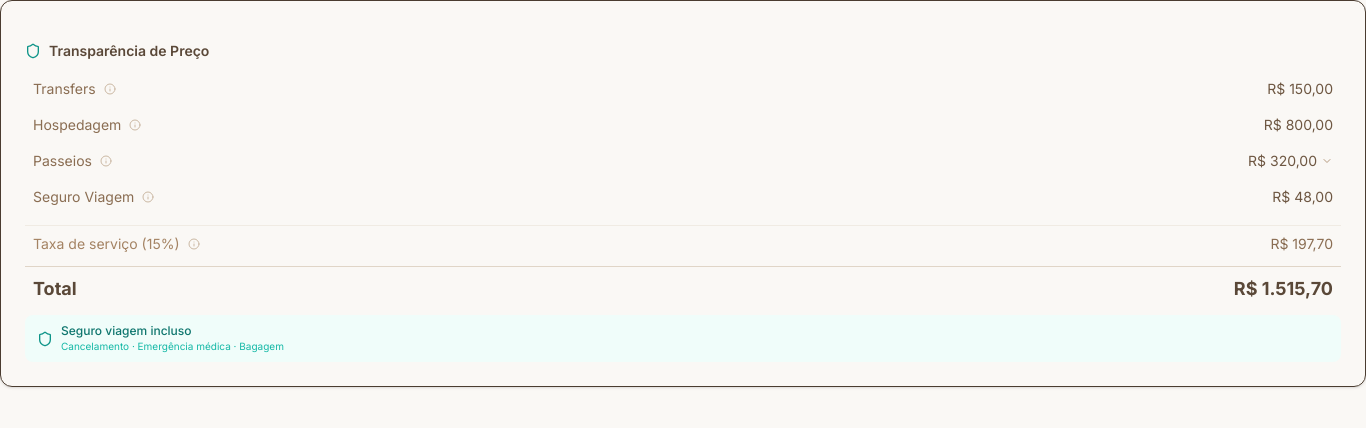
PriceTransparency › shows tooltip on click
Click the button with test id "tooltip-trigger-hospedagem".
click(135, 125)  # box x1=129 y1=119 x2=141 y2=131
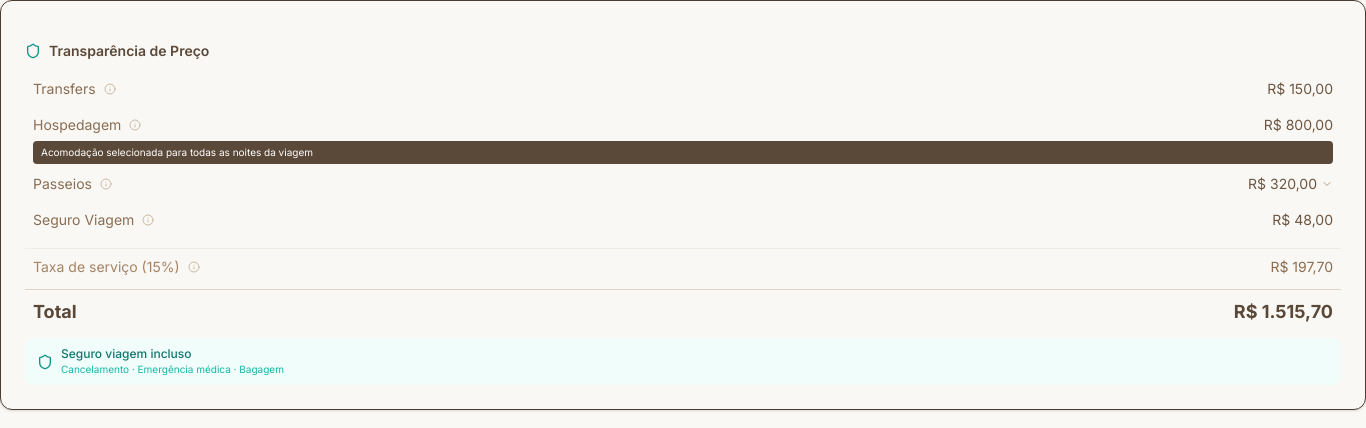
Expected: the text "Acomodação selecionada para todas as noites da viagem" is shown, x1=33 y1=141 x2=1333 y2=164
